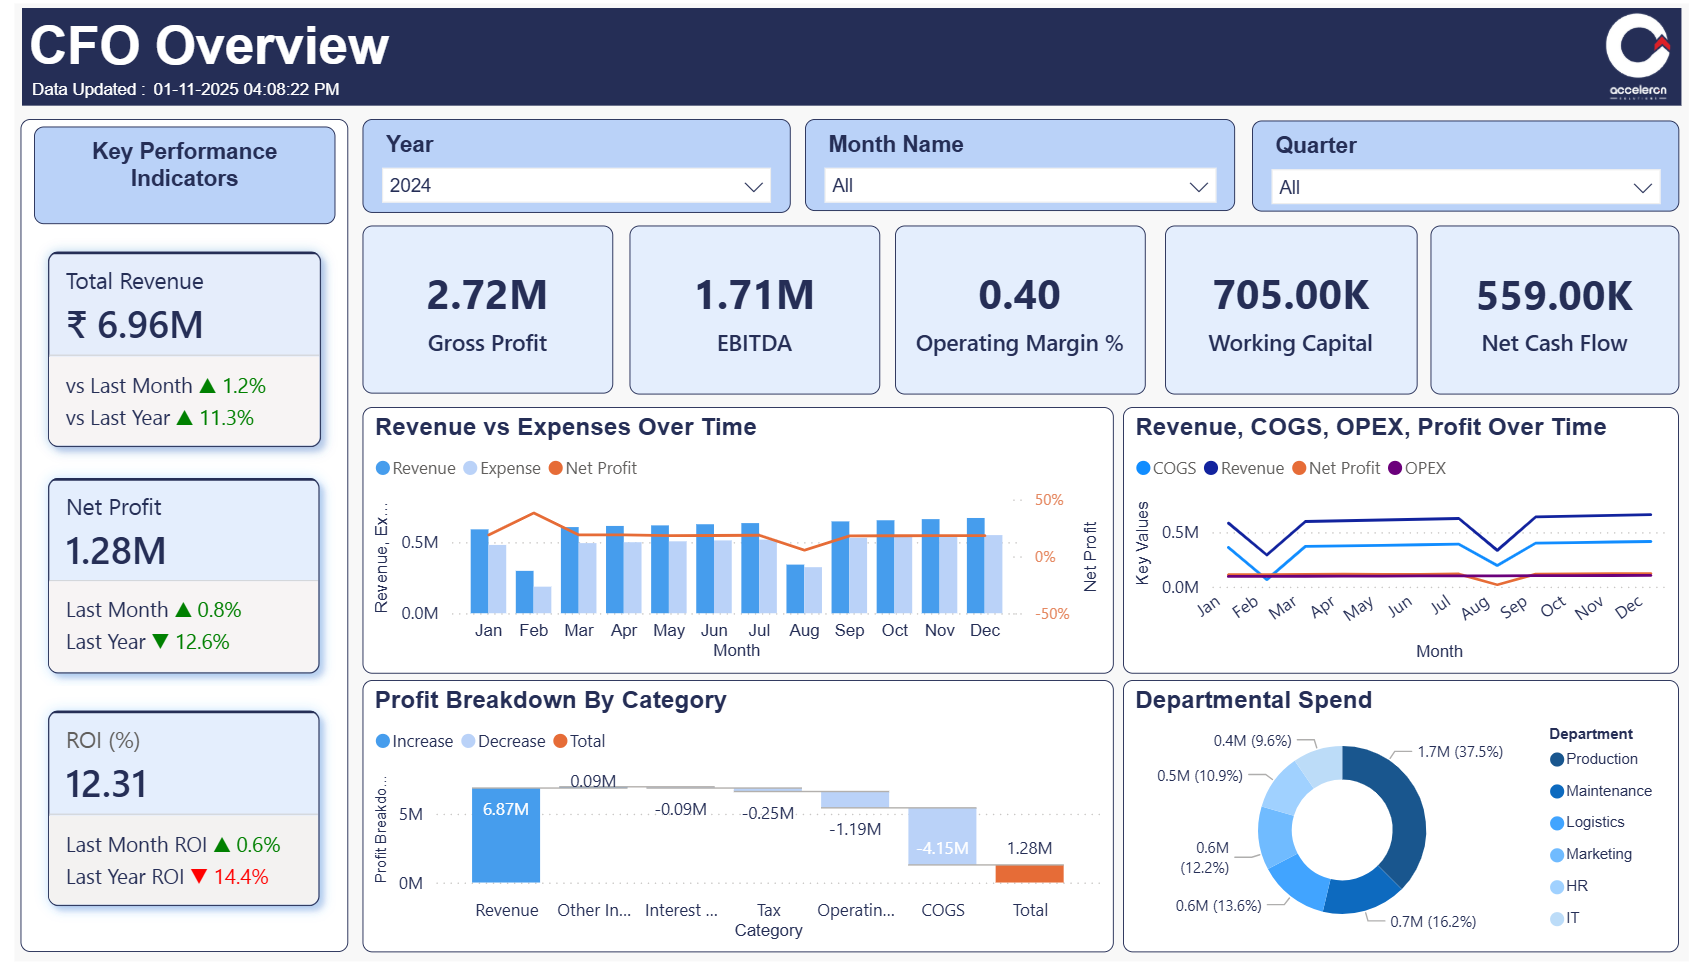

The dashboard page shown, as its layout file describes it:
{"tool":"powerbi","page":{"name":"Summary","canvas":[1200,690],"ordinal":0},"visuals":[{"type":"textbox","box":[5.6,5.6,1188.8,680],"z":0},{"type":"textbox","box":[10.4,8,1177.8,69.3],"z":1000},{"type":"image","box":[1127.3,57,60.2,21.9],"z":2000},{"type":"image","box":[1127.3,5.5,60.2,59.4],"z":3000},{"type":"textbox","box":[13,49.5,95.8,29.2],"z":4000},{"type":"textbox","box":[98.6,49.5,157.4,31],"z":5000},{"type":"lineChart","title":"Revenue, COGS, OPEX, Profit Over Time","fields":{"Y":["Sum(Financials.COGS)","Sum(Financials.Revenue)","Financials.Net Profit","Sum(Financials.Operating_Expenses)"],"Category":["Date.Month Name"]},"box":[792.4,291.8,394.9,189.2],"z":6000},{"type":"slicer","fields":{"Values":["Date.Year"]},"box":[251.9,87,303.7,66.7],"z":7000},{"type":"slicer","fields":{"Values":["Date.Month Name"]},"box":[566.7,87.5,305.6,65.3],"z":8000},{"type":"slicer","fields":{"Values":["Date.Quarter"]},"box":[883.9,88.2,303.5,64.6],"z":9000},{"type":"lineClusteredColumnComboChart","title":"Revenue vs Expenses Over Time","fields":{"Y":["Financials.Total Revenue","Financials.Total Expense_measure"],"Category":["Date.Month Name"],"Y2":["Financials.Net Profit Margin %"]},"box":[251.9,292.2,533.1,189.1],"z":10000},{"type":"waterfallChart","title":"Profit Breakdown By Category","fields":{"Category":["Profit Components.Category"],"Y":["Financials.Profit Breakdown Value"]},"box":[251.9,485.3,533.1,193.4],"z":11000},{"type":"donutChart","title":"Departmental Spend","fields":{"Y":["Sum(DepartmentalSpend.Spend)"],"Category":["DepartmentalSpend.Department"]},"box":[792.7,485.3,395,193.6],"z":12000},{"type":"textbox","box":[9.9,87.2,232.6,591.3],"z":13000},{"type":"cardVisual","fields":{"Data":["Financials.Net Profit"]},"box":[12.2,324.4,227.9,173.3],"z":14000},{"type":"textbox","box":[19.4,93.1,213.9,69.4],"z":15000},{"type":"cardVisual","title":"j","fields":{"Data":["Financials.Total Revenue"]},"box":[11.3,164.2,228.3,173.6],"z":16000},{"type":"cardVisual","fields":{"Data":["BalanceSheet.ROI (%)"]},"box":[12.2,489.5,227.9,173.8],"z":17000},{"type":"card","fields":{"Values":["Financials.Gross Profit"]},"box":[252.4,163.4,178,119.5],"z":18000},{"type":"card","fields":{"Values":["Financials.EBITDA"]},"box":[442,163,177.8,119.8],"z":19000},{"type":"card","fields":{"Values":["Financials.Operating Margin %"]},"box":[630.9,163,177.8,119.8],"z":20000},{"type":"card","fields":{"Values":["BalanceSheet.Working Capital"]},"box":[822.2,163,179,119.8],"z":21000},{"type":"card","fields":{"Values":["CashFlow.Net Cash Flow"]},"box":[1011,163,176.4,120.1],"z":22000}]}

Visuals, with their boxes in screenshot pixels (x1, y1, x2, y2), scaled from the page's 1200x690 canvas onto the 1708x967 screenshot:
textbox: <box>8,8,1700,961</box>
textbox: <box>15,11,1691,108</box>
image: <box>1605,80,1690,111</box>
image: <box>1605,8,1690,91</box>
textbox: <box>19,69,155,110</box>
textbox: <box>140,69,364,113</box>
"Revenue, COGS, OPEX, Profit Over Time" lineChart: <box>1128,409,1690,674</box>
slicer - Date.Year: <box>359,122,791,215</box>
slicer - Date.Month Name: <box>807,123,1242,214</box>
slicer - Date.Quarter: <box>1258,124,1690,214</box>
"Revenue vs Expenses Over Time" lineClusteredColumnComboChart: <box>359,410,1117,675</box>
"Profit Breakdown By Category" waterfallChart: <box>359,680,1117,951</box>
"Departmental Spend" donutChart: <box>1128,680,1690,951</box>
textbox: <box>14,122,345,951</box>
cardVisual - Financials.Net Profit: <box>17,455,342,698</box>
textbox: <box>28,130,332,228</box>
"j" cardVisual: <box>16,230,341,473</box>
cardVisual - BalanceSheet.ROI (%): <box>17,686,342,930</box>
card - Financials.Gross Profit: <box>359,229,613,396</box>
card - Financials.EBITDA: <box>629,228,882,396</box>
card - Financials.Operating Margin %: <box>898,228,1151,396</box>
card - BalanceSheet.Working Capital: <box>1170,228,1425,396</box>
card - CashFlow.Net Cash Flow: <box>1439,228,1690,397</box>
